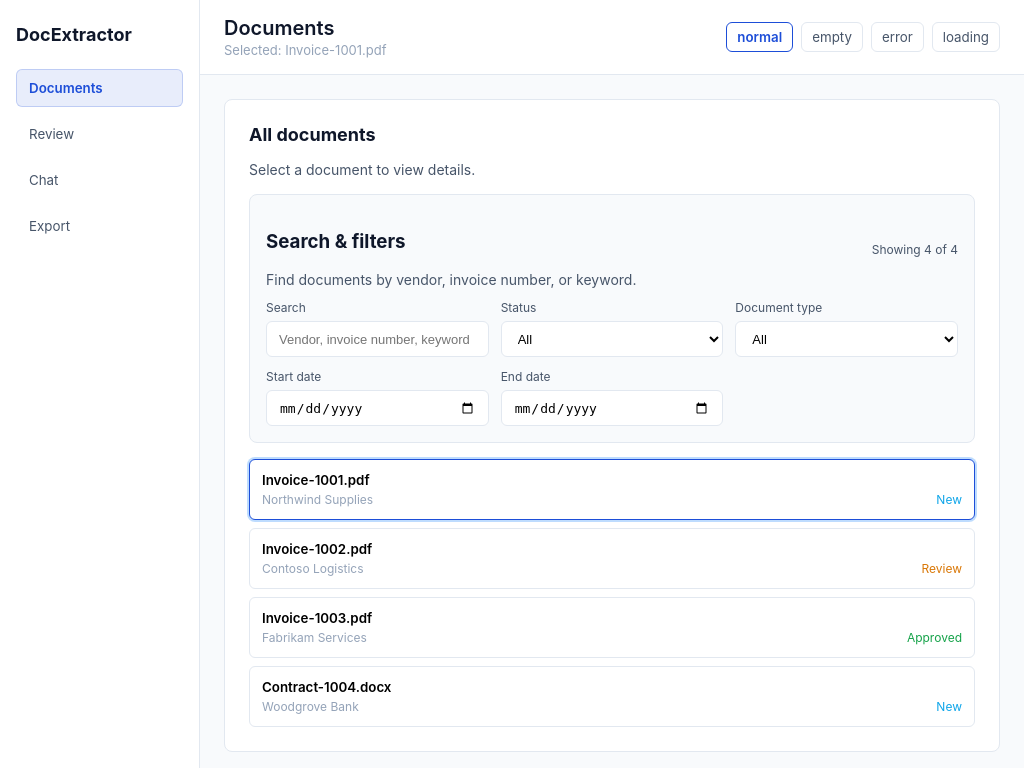
Test: App shell › shows unsupported file error in document viewer
Click the button "Contract-1004.docx Woodgrove Bank new" at (327, 687), box [249,666,975,727]
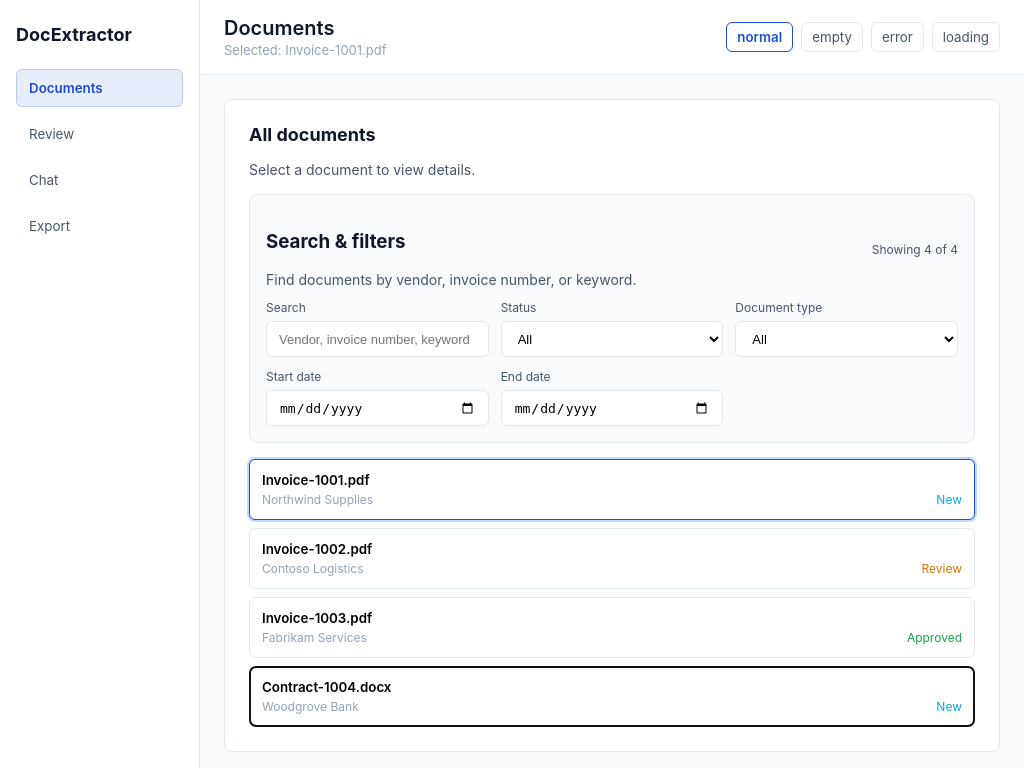
Click the button "Review" at (100, 134), box [16,115,183,153]
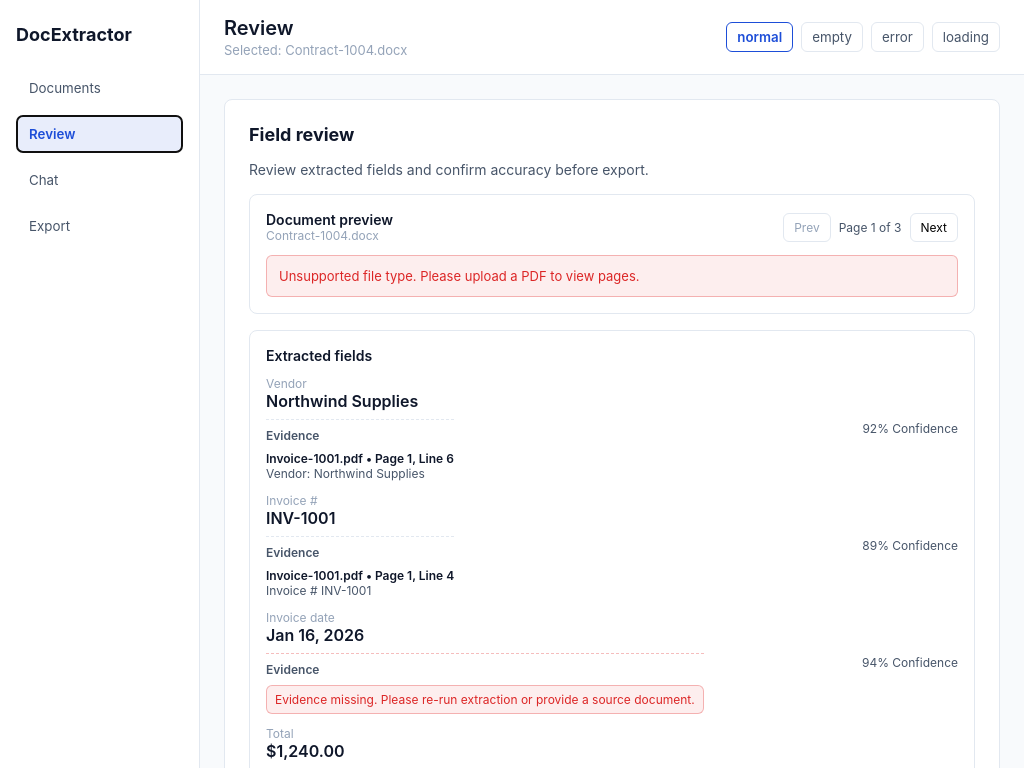
Result: the text "Unsupported file type. Please upload a PDF to view pages." is shown at [266,255,958,297]
